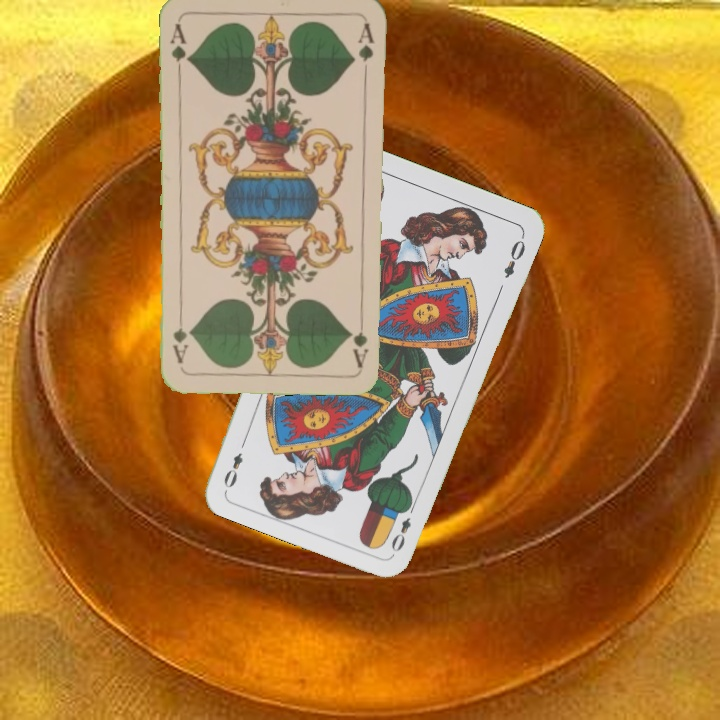EO: (387, 499, 418, 555)
GA: (166, 20, 193, 78), (349, 310, 371, 369)
